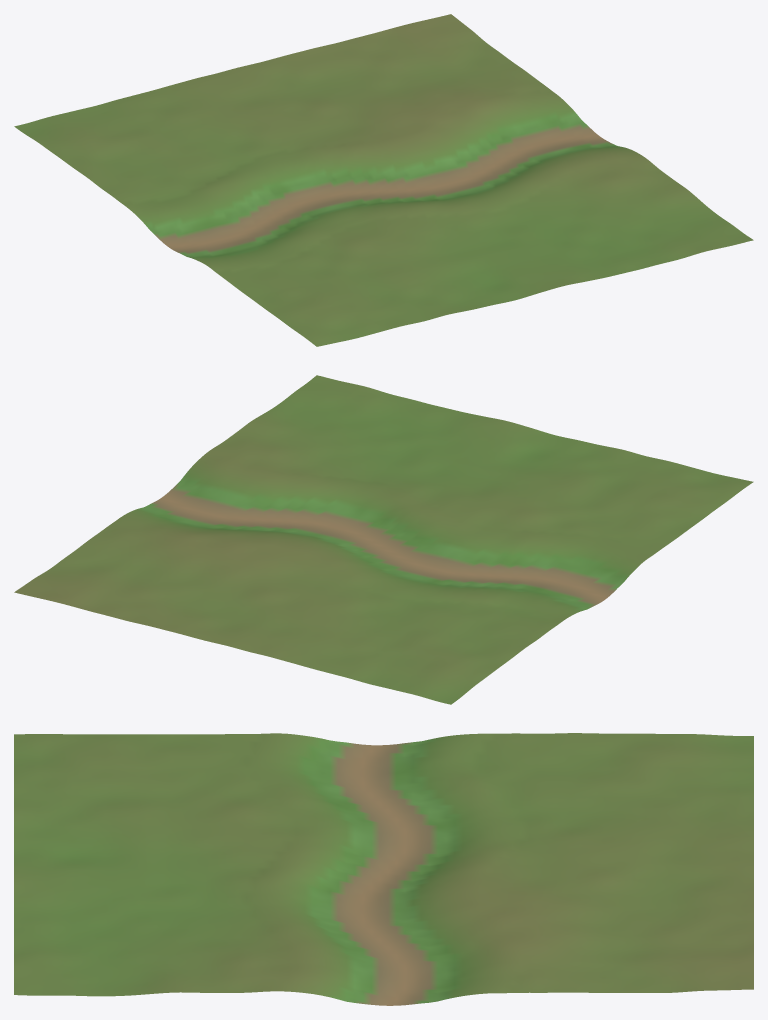
File: target.glb
The picture shows the model from 3 angles, top to bottom: view 1: azimuth 30°, elevation 25°; view 2: azimuth 150°, elevation 25°; view 3: azimuth 270°, elevation 25°; orthographic projection. The views are drawn at different scales.
Visible parts, largest first — view 1: Terrain; view 2: Terrain; view 3: Terrain.
Boxes of the visible parts, x1,y1,x2,y2 form: Terrain: (14,14,753,346); Terrain: (14,375,753,704); Terrain: (14,733,753,1005).
Bounding box in the file's own units: 40 × 1.24 × 48.
